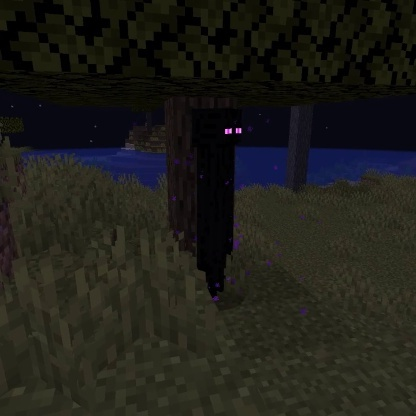enderman: (186, 105, 247, 305)
